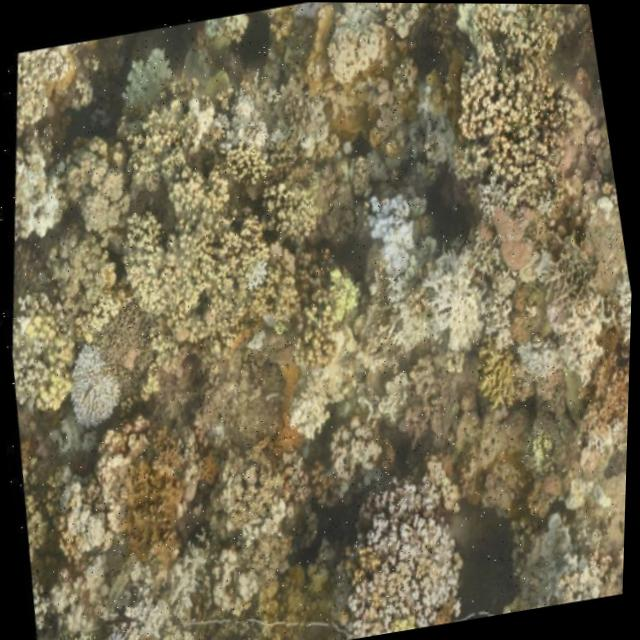Bleached Coral: (348, 475, 486, 627), (398, 229, 515, 364), (337, 182, 443, 307), (510, 508, 628, 610), (524, 268, 625, 387), (108, 546, 231, 633), (96, 33, 201, 123), (49, 328, 136, 435), (196, 77, 284, 176), (0, 135, 81, 241), (47, 469, 125, 559), (309, 2, 389, 84), (0, 42, 84, 119), (161, 80, 235, 162), (268, 374, 342, 447), (224, 247, 276, 296), (97, 610, 153, 640)
